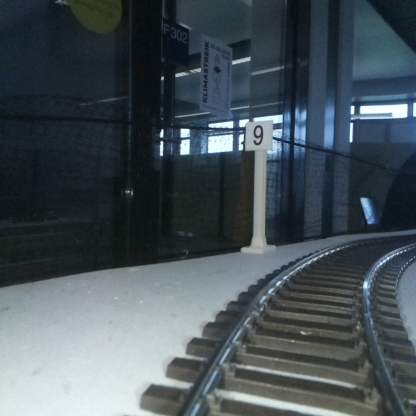white-info-9: (245, 121, 272, 251)
